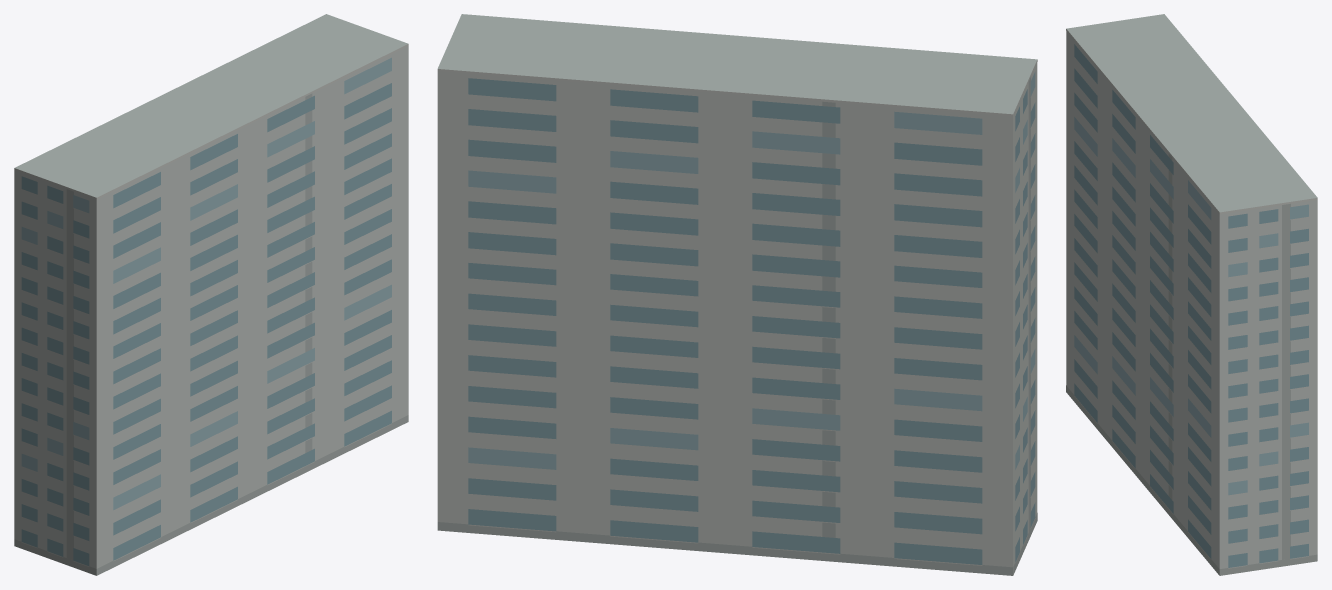
Rendered from residential-284b5641-5b17-410b-a967-dca203e1ffdd.glb.
The picture shows the model from 3 angles, left to right: view 1: azimuth 30°, elevation 25°; view 2: azimuth 150°, elevation 25°; view 3: azimuth 270°, elevation 25°; orthographic projection. The views are drawn at different scales.
Parts seen in each view (by area): view 1: residential-284b5641-5b17-410b-a967-dca203e1ffdd.tmp; view 2: residential-284b5641-5b17-410b-a967-dca203e1ffdd.tmp; view 3: residential-284b5641-5b17-410b-a967-dca203e1ffdd.tmp.
Part boxes in pixels (x1,y1,x2,y2): residential-284b5641-5b17-410b-a967-dca203e1ffdd.tmp: [14, 14, 408, 575]; residential-284b5641-5b17-410b-a967-dca203e1ffdd.tmp: [437, 14, 1037, 575]; residential-284b5641-5b17-410b-a967-dca203e1ffdd.tmp: [1066, 14, 1317, 575].
Bounding box in the file's own units: 53.56 × 45.75 × 28.71.
